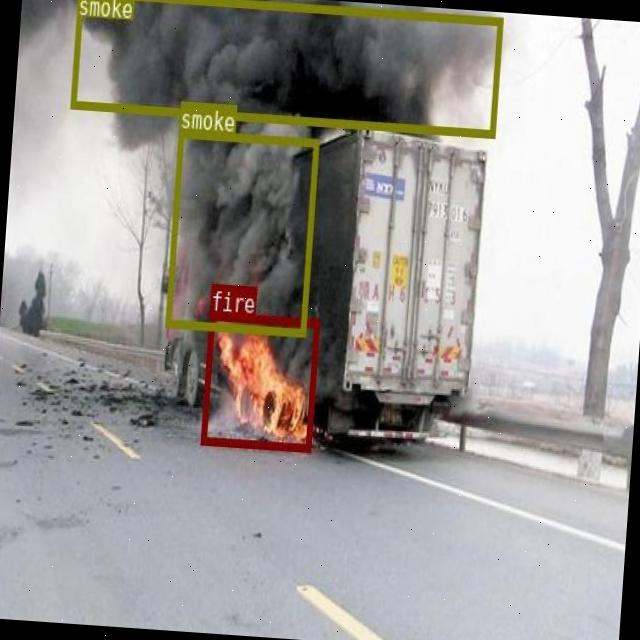fire: (199, 310, 318, 450)
smoke: (70, 0, 501, 136), (165, 128, 318, 335)
